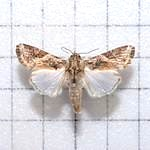Spodoptera litura: (15, 43, 135, 113)
